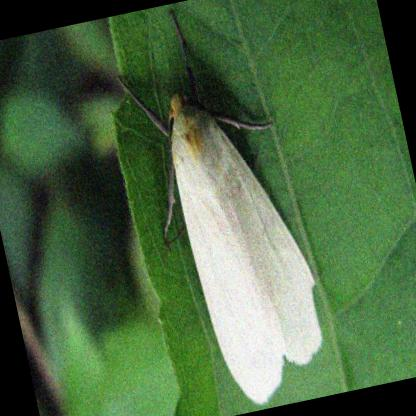whitefly: (169, 92, 325, 405)
